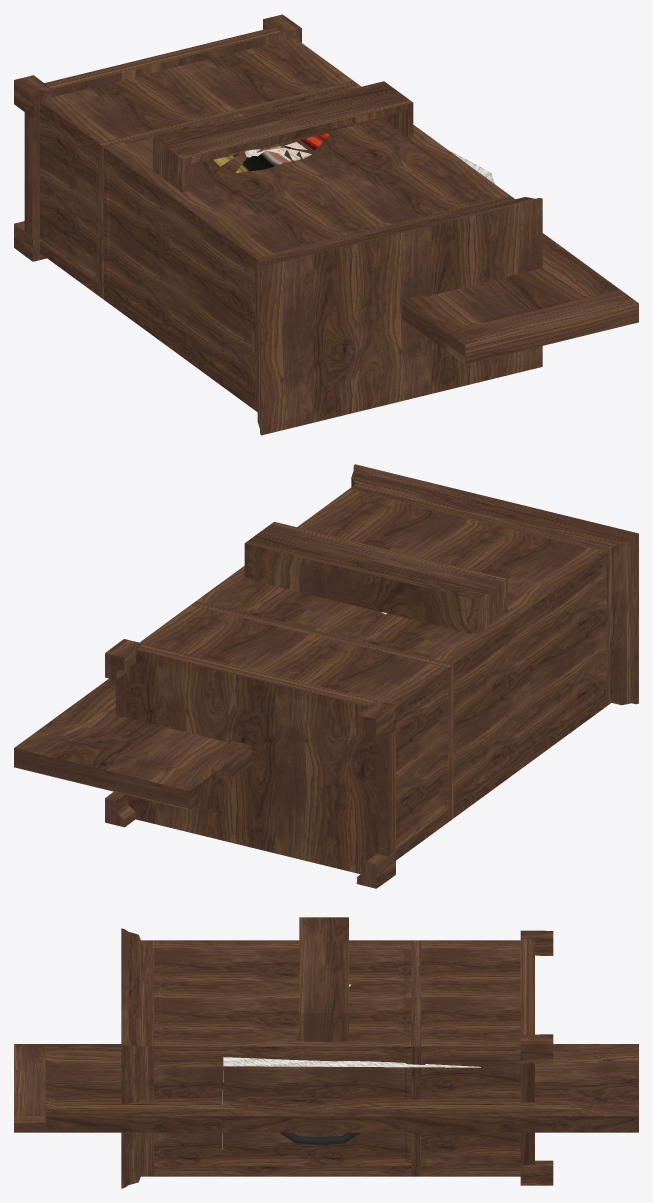
File: low-poly-psx-style-wardrobe-with-clothes-ecd069.glb
3 renders of one model, top to bottom at view 1: azimuth 30°, elevation 25°; view 2: azimuth 150°, elevation 25°; view 3: azimuth 270°, elevation 25°, orthographic. The views are drawn at different scales.
Visible parts, largest first — view 1: PropMesh; view 2: PropMesh; view 3: PropMesh.
Boxes of the visible parts, x1,y1,x2,y2 form: PropMesh: (14, 14, 638, 435); PropMesh: (14, 464, 638, 888); PropMesh: (14, 917, 638, 1188).
Size of the model in its own units: 1.64 by 1.07 by 3.31.
Materials: 8 (6 with a texture image).
